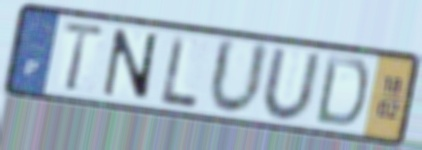D: (312, 52, 371, 130)
L: (159, 31, 200, 110)
N: (101, 26, 160, 104)
T: (59, 19, 109, 94)
U: (205, 34, 272, 120), (259, 47, 323, 124)
